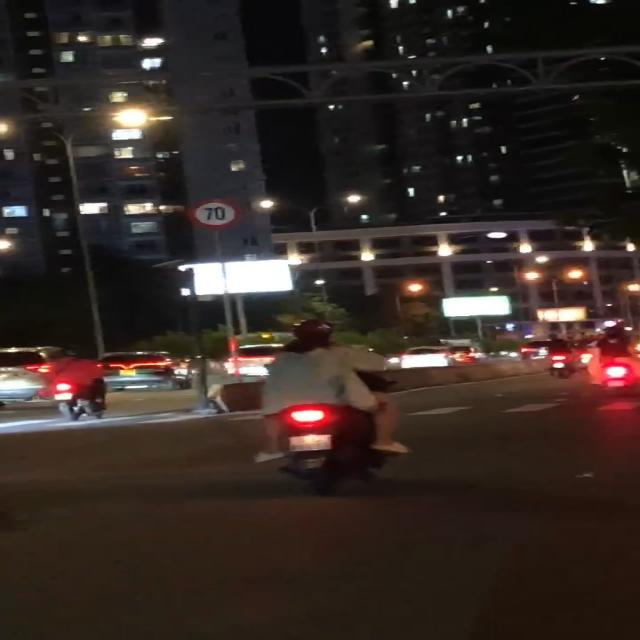Bien bao toc do toi da cho phep: (187, 198, 244, 232)
